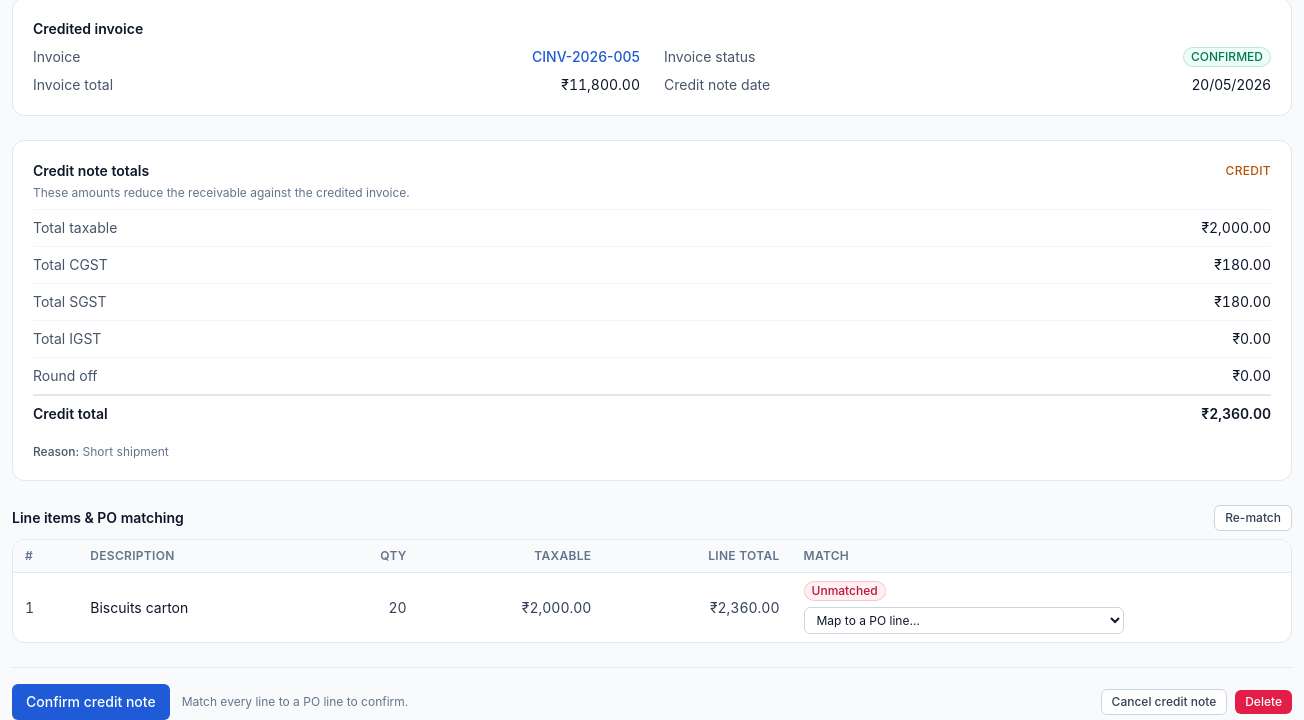
Scenario: CreditNoteReview — detail + match › gates Confirm while a line is UNMATCHED, then enables it once matched
The width and height of the screenshot is (1304, 720).
(page scrolled)
Check: the button "Confirm credit note" is disabled, box top-left (12, 684), bottom-right (170, 719)
Check: the text "Match every line to a PO line to confirm." is shown, box top-left (182, 694), bottom-right (408, 710)
Select "Biscuits carton · qty 100 · ₹100.00" in the dropdown named "Match line 1 to a PO line": (964,620) top-left (804, 607), bottom-right (1124, 634)
(page scrolled)
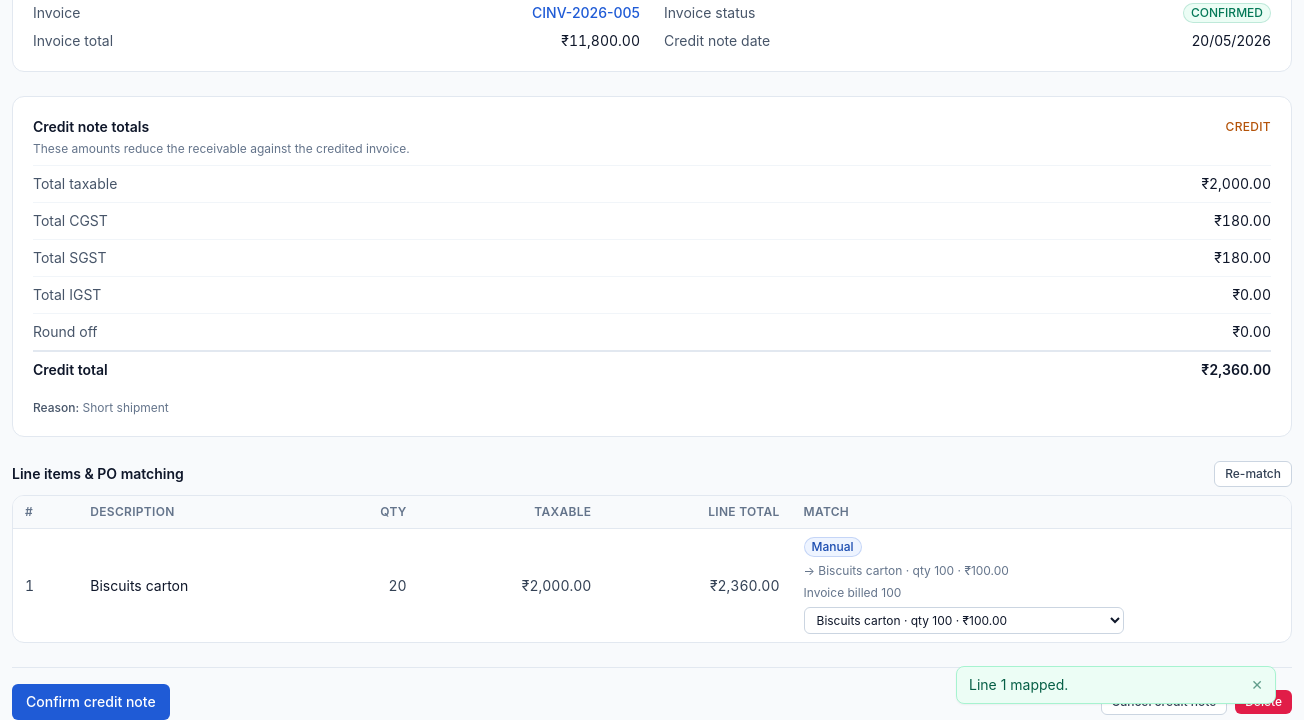
Check: the button "Confirm credit note" is enabled, box top-left (12, 684), bottom-right (170, 719)
Check: the text "Manual" is shown, box top-left (804, 537), bottom-right (862, 557)
